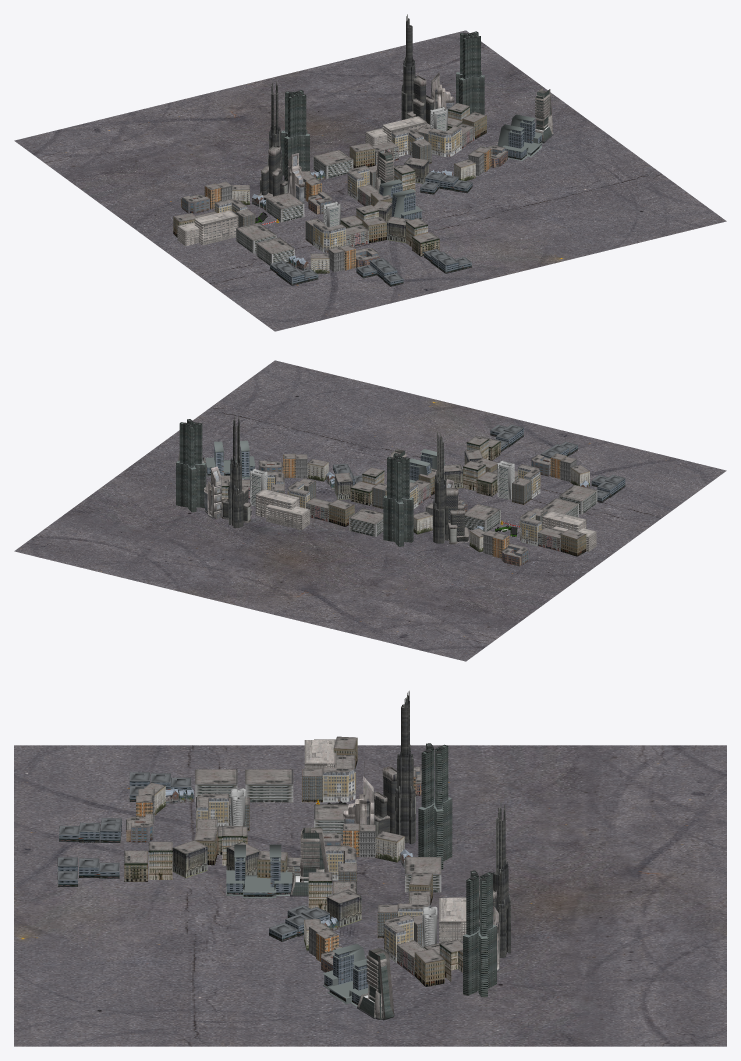
File: city.fbx
3 views of the same model, one above another, from view 1: azimuth 30°, elevation 25°; view 2: azimuth 150°, elevation 25°; view 3: azimuth 270°, elevation 25° (orthographic). The views are drawn at different scales.
Visible parts, largest first — view 1: Plane, The_City:mesh01, The_City:bldgs2, The_City:bldgs2.001; view 2: Plane, The_City:mesh01, The_City:bldgs2, The_City:bldgs2.001; view 3: Plane, The_City:mesh01, The_City:bldgs2, The_City:bldgs2.001.
Boxes of the visible parts, x1=… form: Plane: x1=14, y1=30, x2=726, y2=331; The_City:mesh01: x1=173, y1=103, x2=507, y2=273; The_City:bldgs2: x1=177, y1=81, x2=471, y2=286; The_City:bldgs2.001: x1=365, y1=14, x2=553, y2=194; Plane: x1=14, y1=360, x2=726, y2=661; The_City:mesh01: x1=221, y1=436, x2=597, y2=566; The_City:bldgs2: x1=383, y1=424, x2=625, y2=551; The_City:bldgs2.001: x1=176, y1=416, x2=362, y2=529; Plane: x1=14, y1=745, x2=726, y2=1046; The_City:mesh01: x1=124, y1=736, x2=462, y2=986; The_City:bldgs2: x1=57, y1=690, x2=452, y2=898; The_City:bldgs2.001: x1=269, y1=802, x2=510, y2=1020.
Size of the model in its own units: 26196 by 6143 by 26196.
